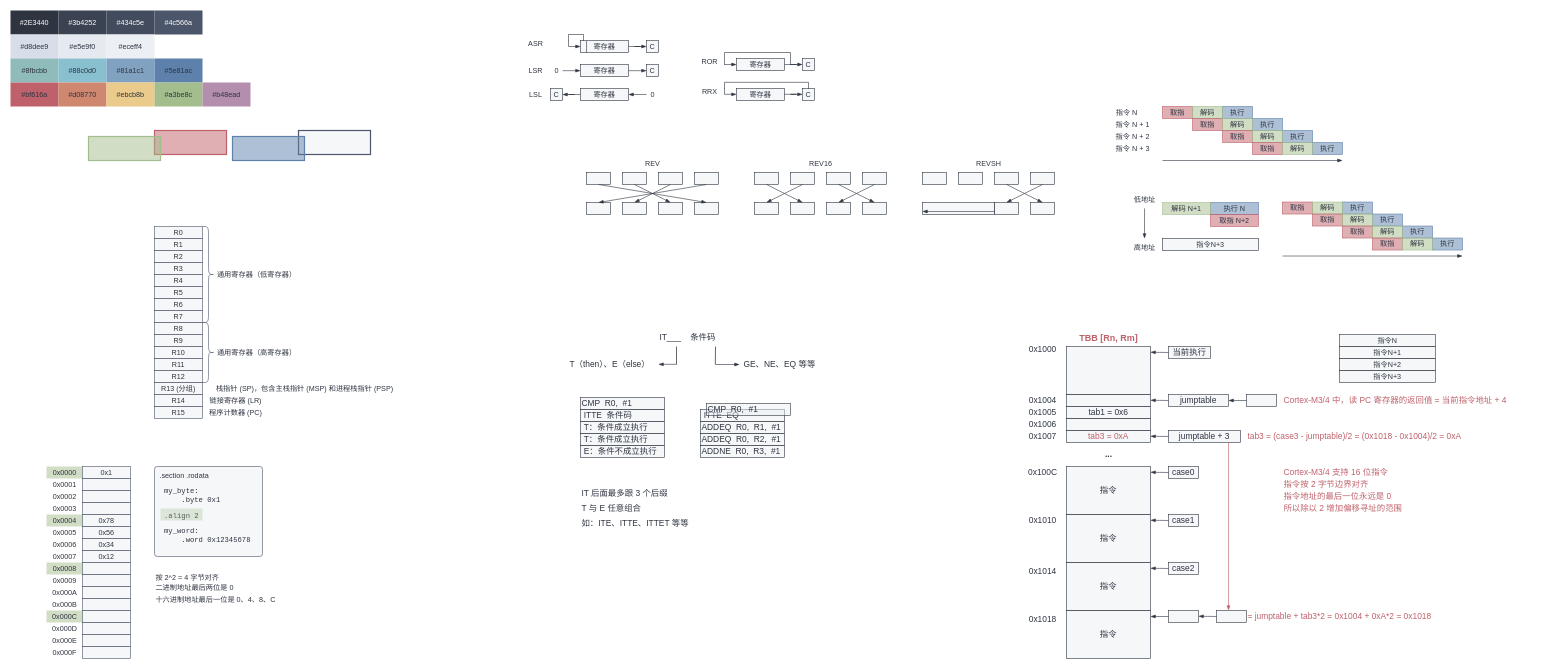
Some shapes in this 1556 by 671 pixel diagram are drawn without their labels. The centre of each missing label's shape, as x and y in pixels:
"case3" belongs at point (1183, 616).
"PC" belongs at point (1261, 400).
"tab0 = 0x4" belongs at point (1108, 400).
"tab2 = 0x8" belongs at point (1108, 424).
"TBB [PC, 3]" belongs at point (1108, 370).
"新 PC" belongs at point (1231, 616).
"有符号展开" belongs at point (958, 208).
